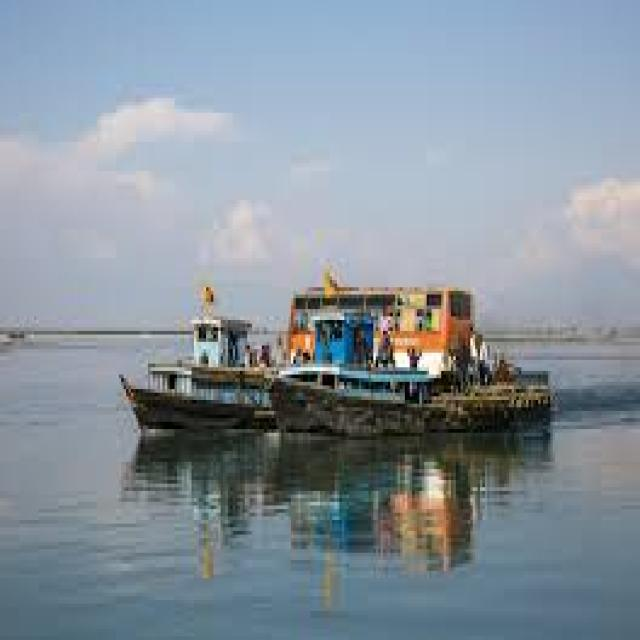cargoship: (274, 279, 576, 463), (122, 270, 275, 426)
